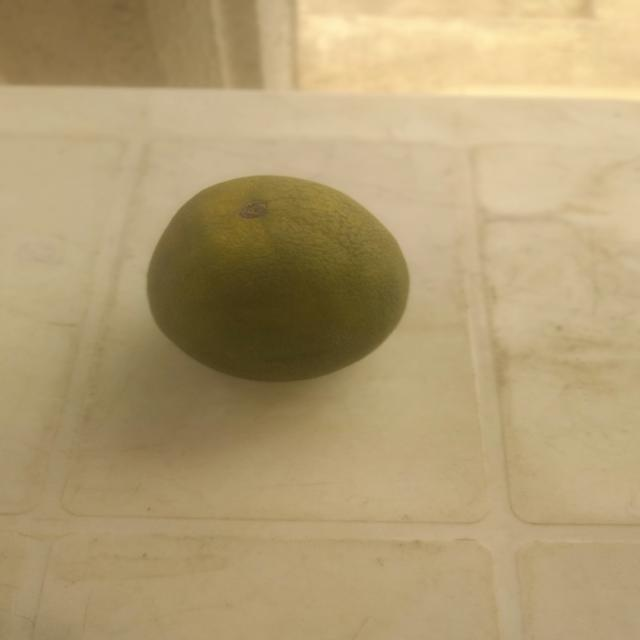Unripe: (136, 167, 416, 388)
